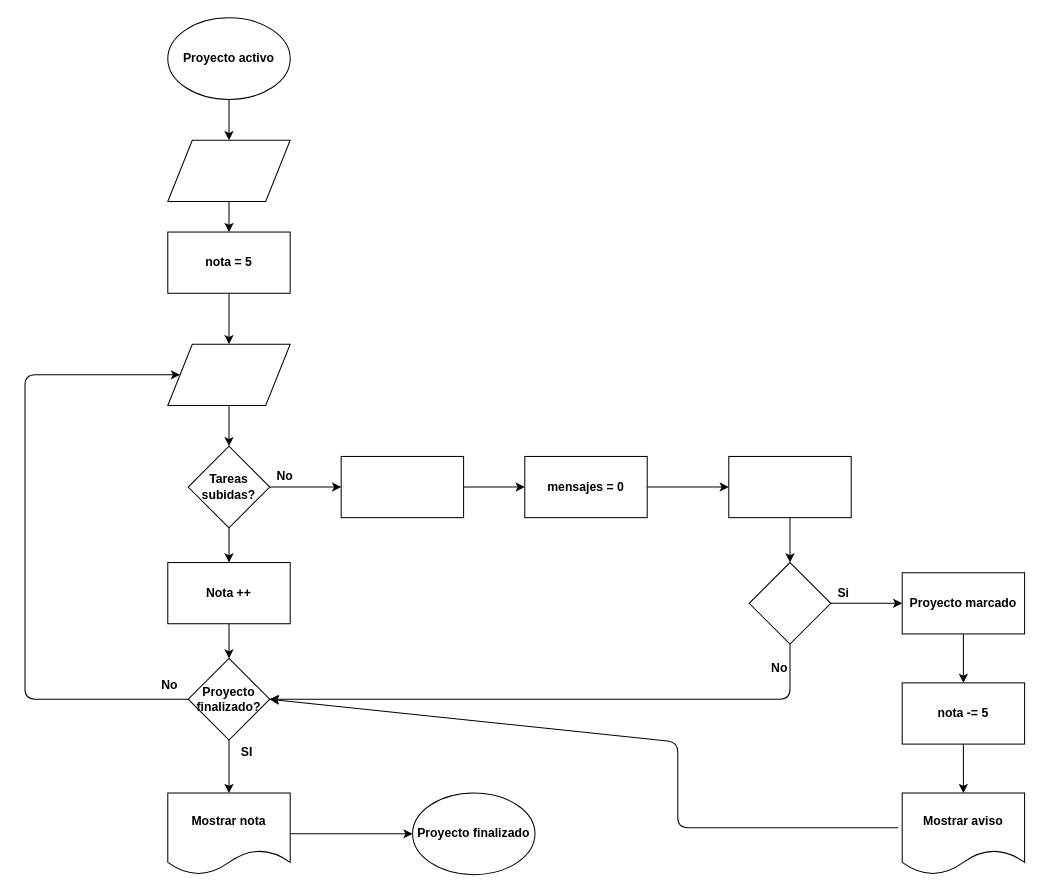
Image size: 1042x893. Some labels were removed from this diagram. The shapes that lost their labels are listed below. From the top down, each one's centre as x and y in pixels, then its label:
the point at 228,170: Fecha final del proyecto
the point at 228,374: Tareas semanales
the point at 402,486: Mensaje recordatorio
the point at 789,486: mensajes ++
the point at 789,603: mensajes >= 3?
